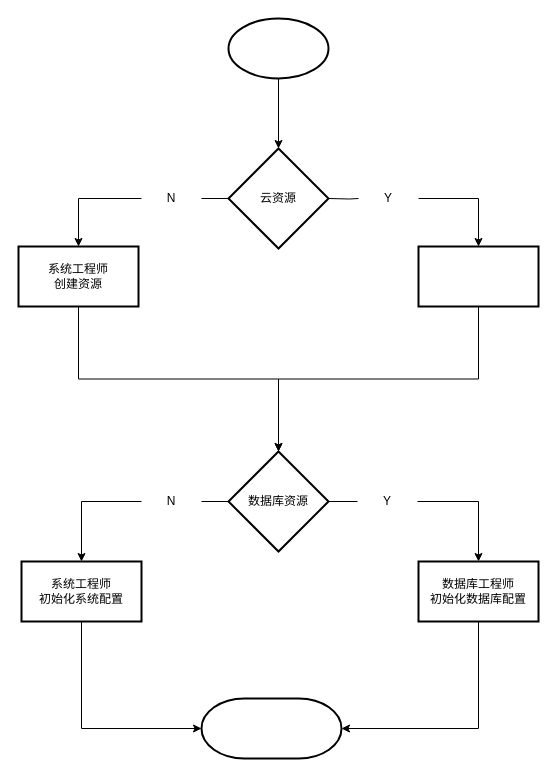
The diagram is 556 pixels wide and 776 high, and some of its shapes have lost their labels. The centre of each missing label's shape, as x and y in pixels:
云工程师 创建资源: [478,276]
应用运维工程师 配置应用环境，CI/CD 日常应用发版更新: [271,728]
开发工程师 提出资源需求: [278,48]
